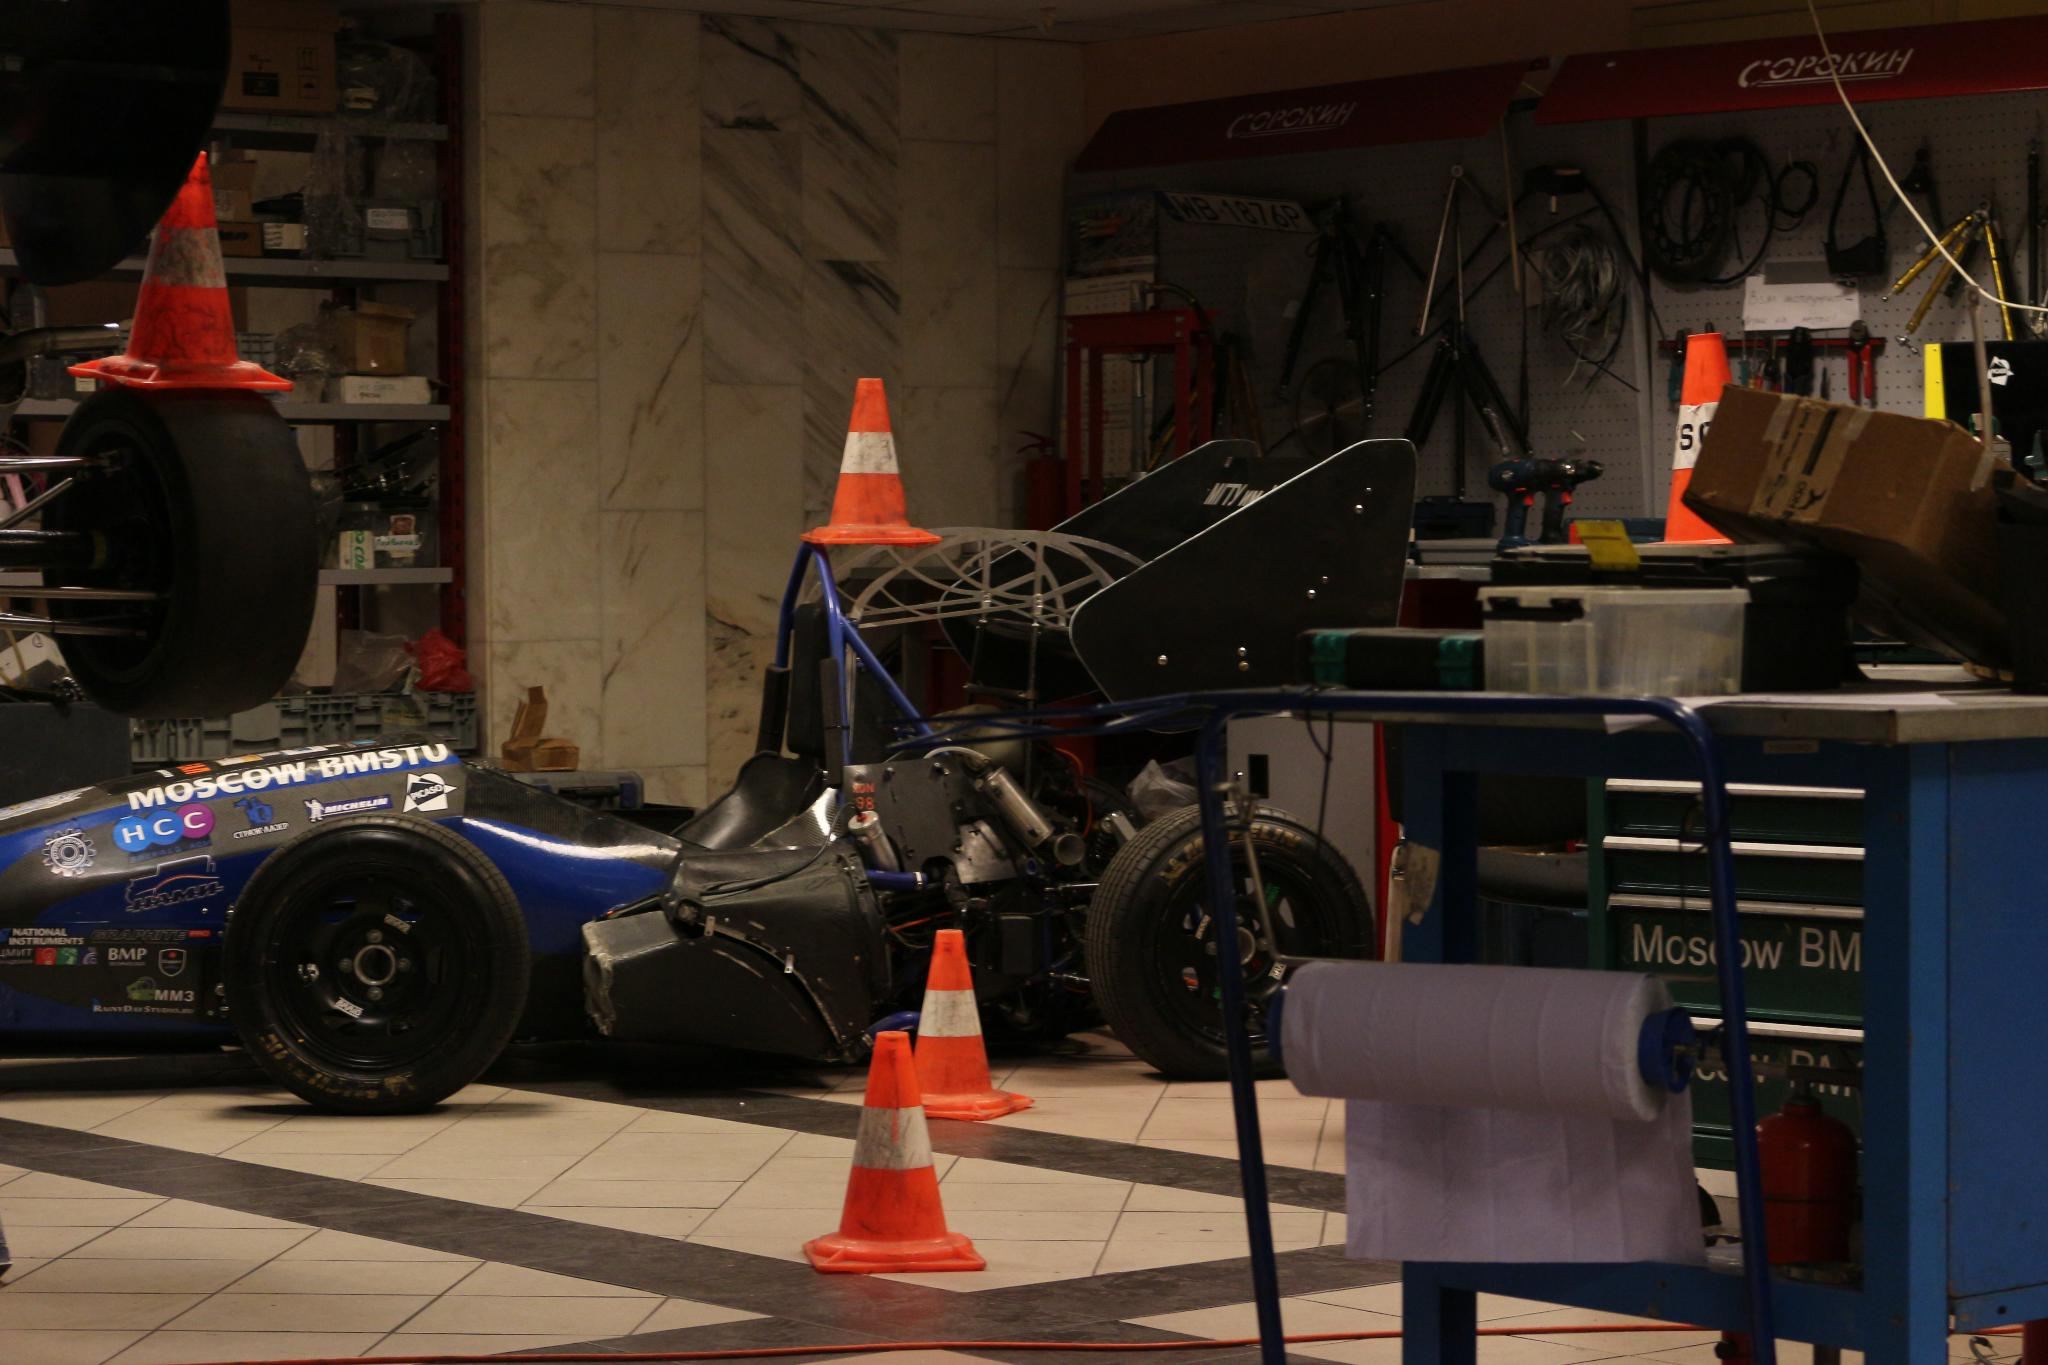Orange_Cone: (88, 99, 292, 400), (809, 1029, 989, 1277), (1632, 328, 1768, 553), (884, 917, 1028, 1128), (796, 368, 946, 552)
